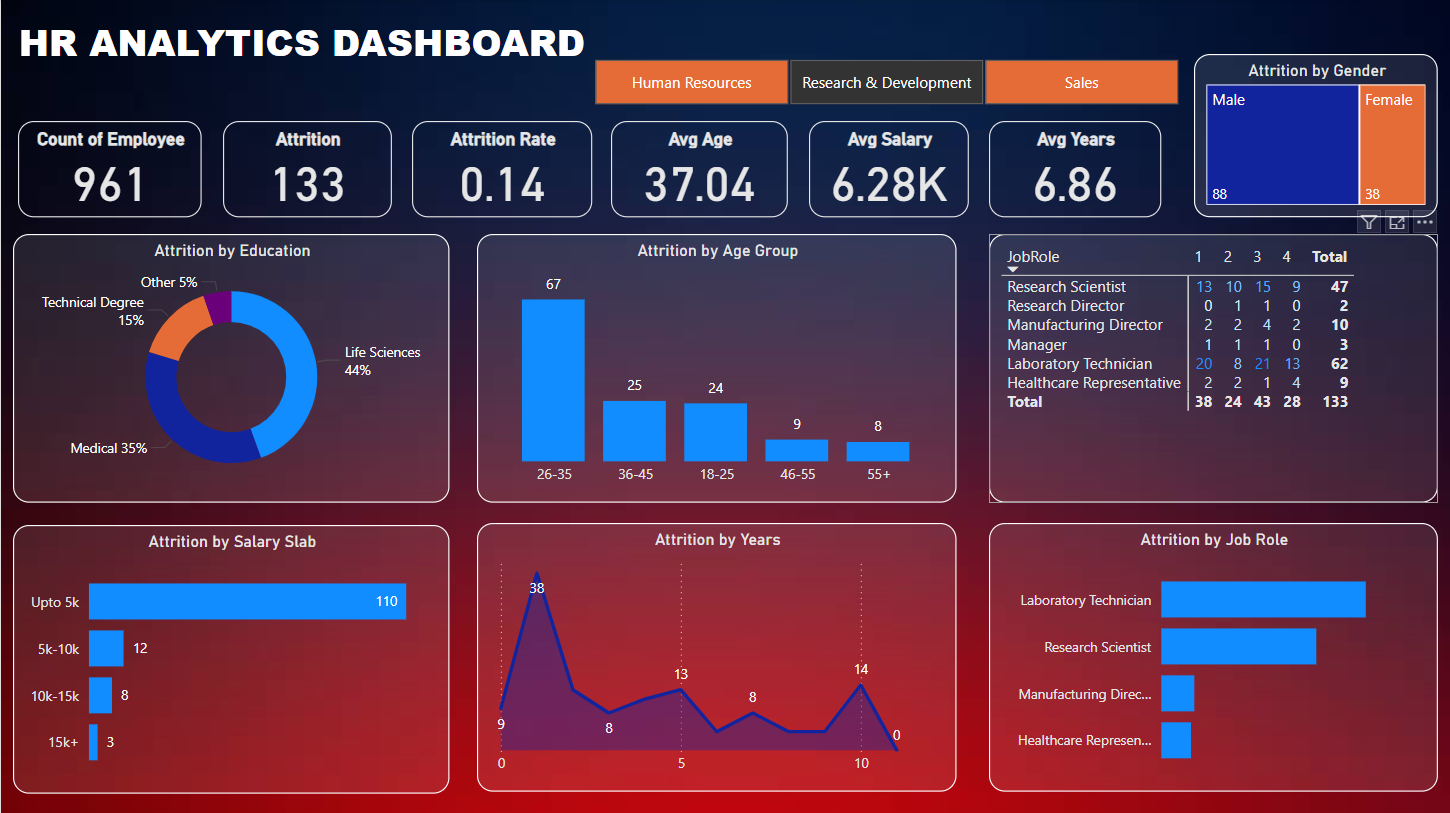

What the dashboard file says about the page in this screenshot:
{"tool":"powerbi","page":{"name":"Page 1","canvas":[1280,720],"ordinal":0},"visuals":[{"type":"card","title":"Count of Employee","fields":{"Values":["CountNonNull(HR_Analytics.EmpID)"]},"box":[15.2,107.7,162.2,84.9],"z":0},{"type":"card","title":"Attrition Rate","fields":{"Values":["HR_Analytics.AttritionRate"]},"box":[362.4,107.7,159.2,84.9],"z":1000},{"type":"card","title":"Attrition","fields":{"Values":["Sum(HR_Analytics.AttritionCal)"]},"box":[195.6,107.7,148.6,84.9],"z":2000},{"type":"card","title":"Avg Age","fields":{"Values":["Avg(HR_Analytics.Age)"]},"box":[538.3,107.7,156.2,84.9],"z":3000},{"type":"card","title":"Avg Years","fields":{"Values":["Avg(HR_Analytics.YearsAtCompany)"]},"box":[871.8,107.7,151.6,84.9],"z":4000},{"type":"card","title":"Avg Salary","fields":{"Values":["Avg(HR_Analytics.MonthlyIncome)"]},"box":[712.6,107.7,141,84.9],"z":5000},{"type":"columnChart","title":"Attrition by Age Group","fields":{"Category":["HR_Analytics.AgeGroup"],"Y":["Sum(HR_Analytics.AttritionCount)"]},"box":[420,207.7,423,236.5],"z":6000},{"type":"donutChart","title":"Attrition by Education","fields":{"Category":["HR_Analytics.EducationField"],"Y":["Sum(HR_Analytics.AttritionCount)"]},"box":[10.6,207.7,385.1,236.5],"z":7000},{"type":"pivotTable","fields":{"Rows":["HR_Analytics.JobRole"],"Columns":["HR_Analytics.JobSatisfaction"],"Values":["Sum(HR_Analytics.AttritionCount)"]},"box":[871.8,207.7,395.7,236.5],"z":8000},{"type":"barChart","title":"Attrition by Salary Slab","fields":{"Category":["HR_Analytics.SalarySlab"],"Y":["Sum(HR_Analytics.AttritionCount)"]},"box":[10.6,464,385.1,236.5],"z":9000},{"type":"barChart","title":"Attrition by Job Role","fields":{"Category":["HR_Analytics.JobRole"],"Y":["Sum(HR_Analytics.AttritionCount)"]},"box":[871.8,462.5,395.7,236.5],"z":10000},{"type":"areaChart","title":"Attrition by Years","fields":{"Category":["HR_Analytics.YearsAtCompany"],"Y":["Sum(HR_Analytics.AttritionCount)"]},"box":[420,462.5,423,236.5],"z":11000},{"type":"treemap","title":"Attrition by Gender","fields":{"Group":["HR_Analytics.Gender"],"Values":["Sum(HR_Analytics.AttritionCount)"]},"box":[1052.3,48.5,215.3,144],"z":11001},{"type":"slicer","fields":{"Values":["HR_Analytics.Department"]},"box":[498.8,47,564,53.1],"z":11002},{"type":"textbox","box":[10.6,10.6,650.5,56.1],"z":11003}]}

Visuals, with their boxes in screenshot pixels (x1, y1, x2, y2), scaled from the page's 1280x720 canvas onto the 1450x813 screenshot:
"Count of Employee" card: region(17, 122, 201, 217)
"Attrition Rate" card: region(411, 122, 591, 217)
"Attrition" card: region(222, 122, 390, 217)
"Avg Age" card: region(610, 122, 787, 217)
"Avg Years" card: region(988, 122, 1159, 217)
"Avg Salary" card: region(807, 122, 967, 217)
"Attrition by Age Group" columnChart: region(476, 235, 955, 502)
"Attrition by Education" donutChart: region(12, 235, 448, 502)
pivotTable - HR_Analytics.JobRole x HR_Analytics.JobSatisfaction: region(988, 235, 1436, 502)
"Attrition by Salary Slab" barChart: region(12, 524, 448, 791)
"Attrition by Job Role" barChart: region(988, 522, 1436, 789)
"Attrition by Years" areaChart: region(476, 522, 955, 789)
"Attrition by Gender" treemap: region(1192, 55, 1436, 217)
slicer - HR_Analytics.Department: region(565, 53, 1204, 113)
textbox: region(12, 12, 749, 75)
